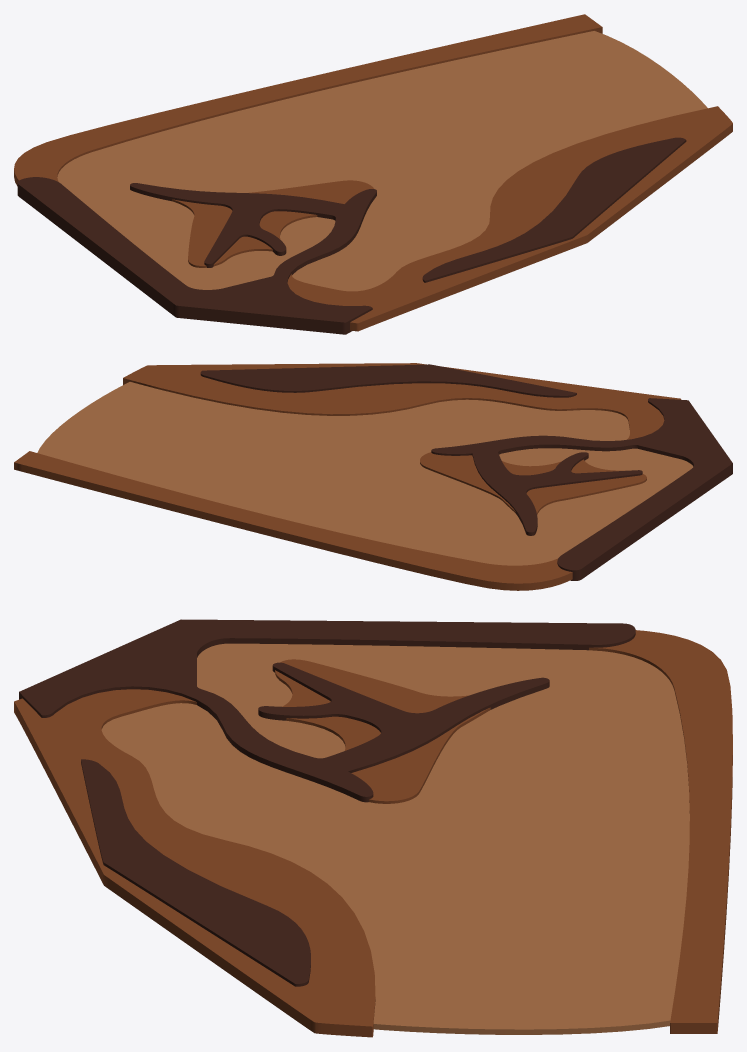
The model's file is emoji_u1f91b_1f3fe.glb.
3 renders of one model, top to bottom at view 1: azimuth 30°, elevation 25°; view 2: azimuth 150°, elevation 25°; view 3: azimuth 270°, elevation 25°, orthographic. The views are drawn at different scales.
Visible parts, largest first — view 1: emoji_u1f91b_1f3fe; view 2: emoji_u1f91b_1f3fe; view 3: emoji_u1f91b_1f3fe.
Part boxes in pixels (left/top/right/bottom): emoji_u1f91b_1f3fe: left=14, top=14, right=732, bottom=334; emoji_u1f91b_1f3fe: left=14, top=363, right=732, bottom=590; emoji_u1f91b_1f3fe: left=14, top=619, right=732, bottom=1037.
Bounding box in the file's own units: 0.0318 × 0.0006 × 0.0239.
